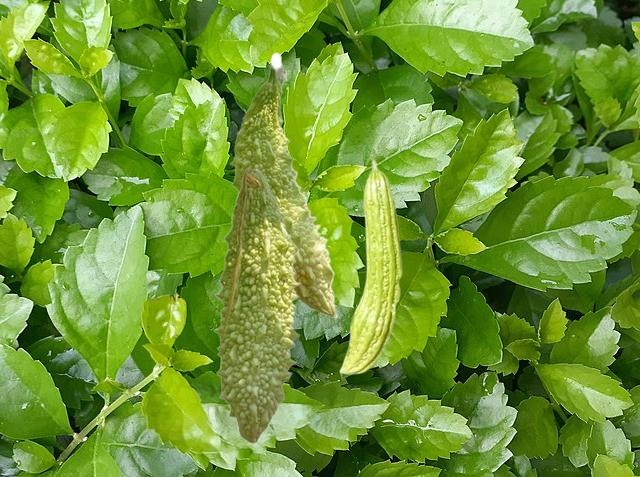ampalaya: (227, 52, 338, 320), (211, 166, 302, 445), (338, 157, 404, 376)
